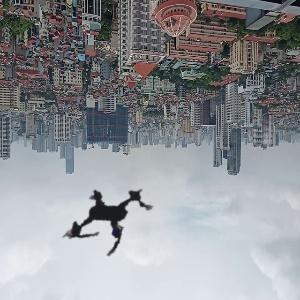drone: (28, 135, 190, 297)
